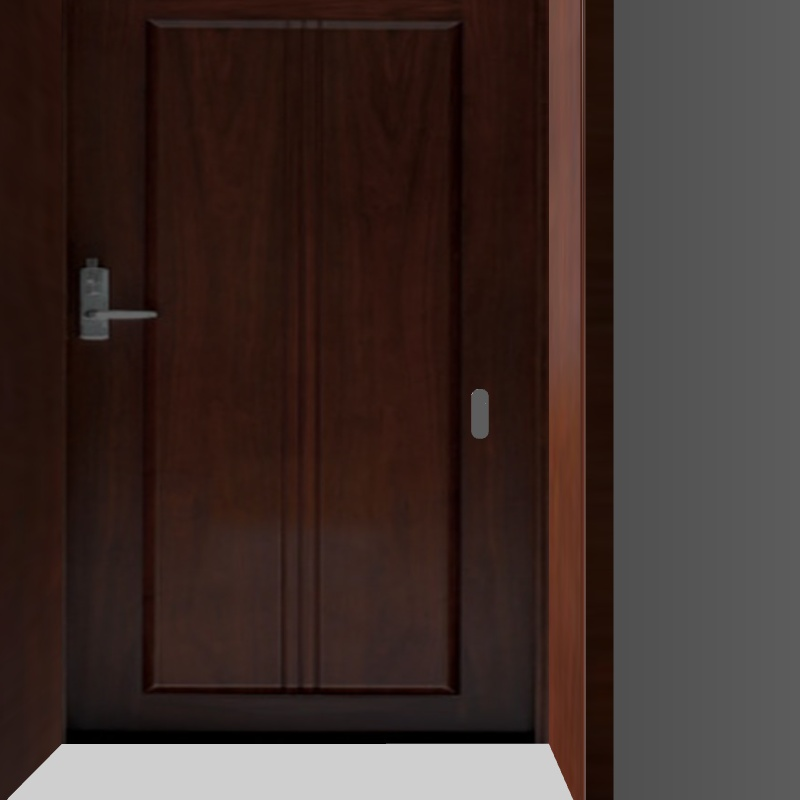handle: (60, 257, 165, 352)
